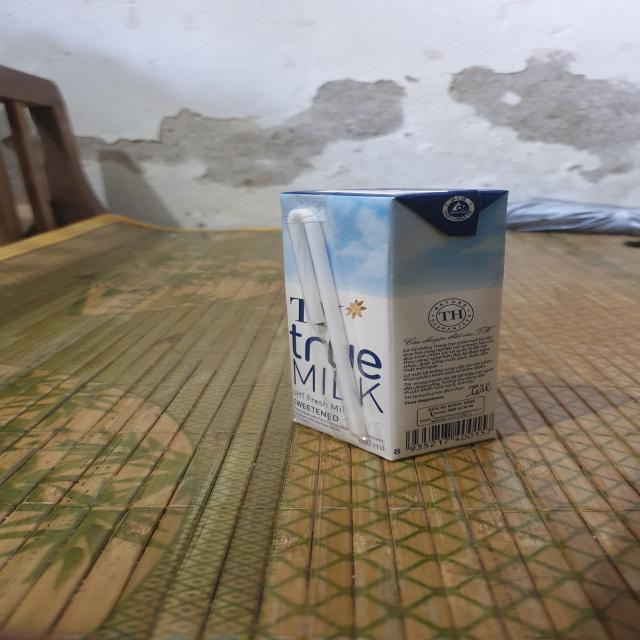TH: (286, 190, 503, 461)
